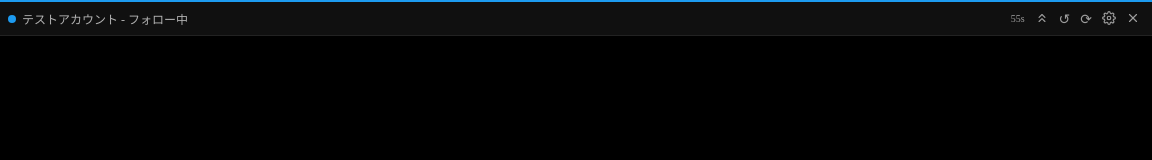
Test case: ColumnHeader 更新ボタンのカウントダウンリセット › 更新ボタンを押すと自動更新のカウントダウンが最初からになる
Expected: the text titled "次の自動更新まで" reads "55s", [1011,13,1024,24]
Click the button named "更新" at {"x": 1064, "y": 18}, box [1054,8,1074,28]
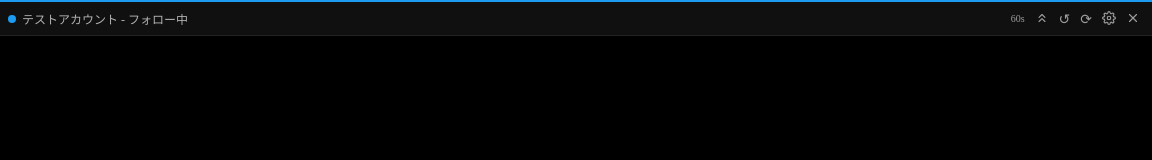
Expected: the text titled "次の自動更新まで" reads "60s", [1011,13,1024,24]
